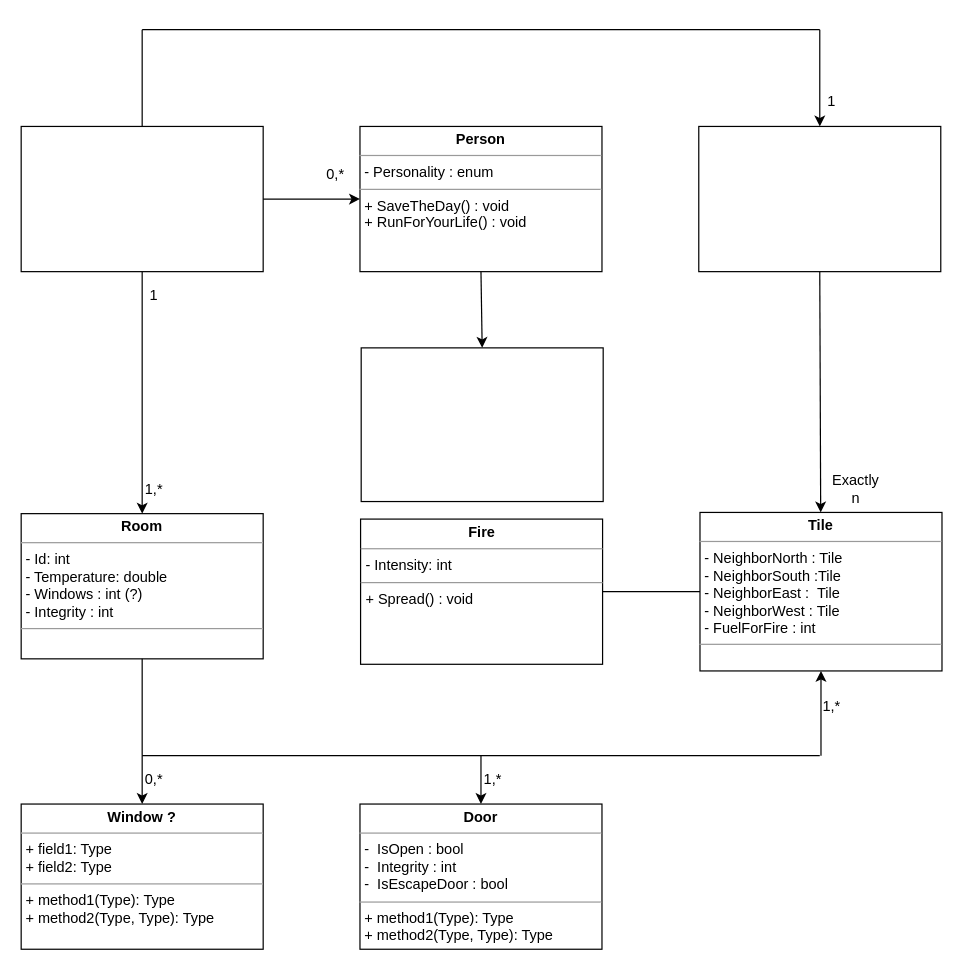
The diagram is 963 pixels wide and 970 high, and some of its shapes have lost their labels. The centre of each missing label's shape, as x and y in pixels:
Floor - Extinguishers : int + DetectLayout() : void: point 141,198
Grid (Please fill me) + method1(Type): Type + method2(Type, Type): Type: point 819,198
Personality <enum> Pussy SelfishPrick HeroOfMankind ShaggyFromScoobyDoo: point 481,424
